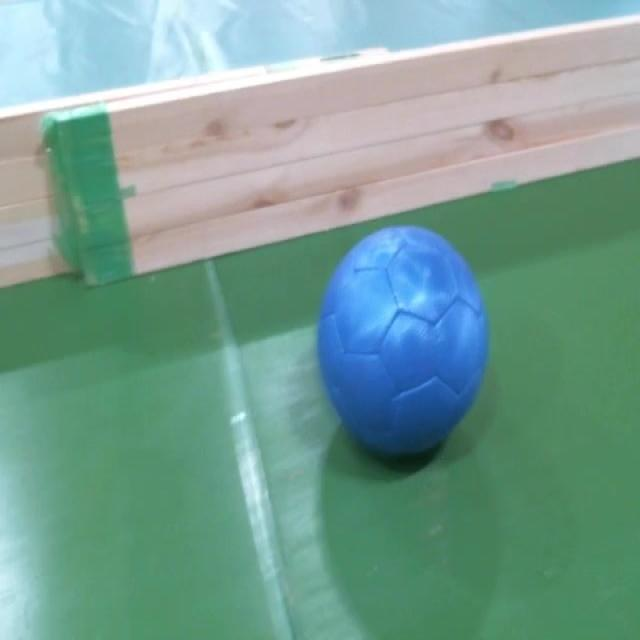blue_ball: (316, 223, 489, 461)
